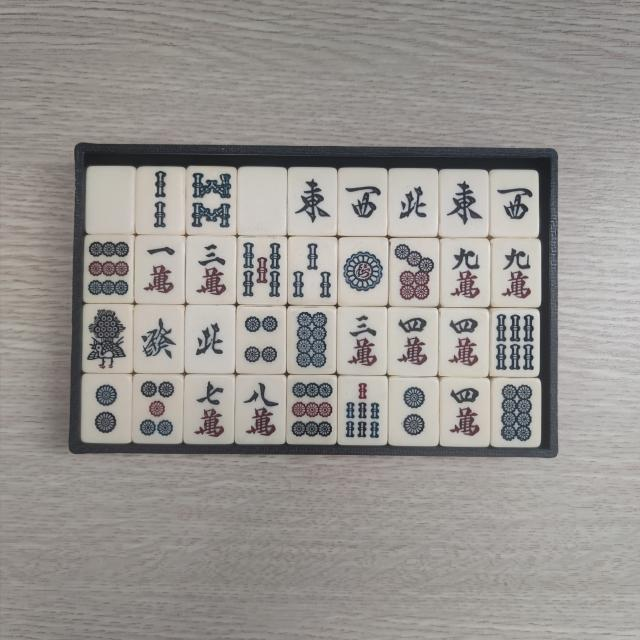hdg: (139, 310, 181, 370)
hdw: (244, 171, 284, 231), (91, 172, 130, 230)
hwe: (444, 174, 486, 234), (293, 172, 335, 232)
hwn: (394, 172, 436, 231), (192, 308, 232, 368)
hww: (343, 171, 384, 231), (494, 173, 534, 232)
sb1: (87, 308, 130, 370)
sb2: (142, 171, 183, 232)
sb3: (290, 241, 333, 302)
sb5: (240, 241, 283, 303)
sb6: (493, 314, 536, 374)
sb7: (342, 380, 383, 440)
sb8: (191, 170, 234, 232)
sc1: (140, 238, 179, 298)
sc3: (342, 310, 382, 372), (192, 240, 232, 300)
sc4: (393, 312, 434, 372), (444, 314, 484, 373), (446, 383, 486, 442)
sc7: (190, 379, 230, 442)
sc8: (239, 380, 282, 442)
sc9: (496, 242, 538, 303), (444, 242, 486, 303)
sd1: (341, 242, 385, 302)
sd2: (394, 381, 434, 442), (88, 378, 127, 438)
sd4: (240, 312, 282, 371)
sd5: (136, 379, 177, 442)
sd7: (392, 243, 435, 305)
sd8: (498, 381, 538, 443), (292, 308, 332, 369)
sd9: (290, 382, 334, 442), (85, 241, 128, 301)
